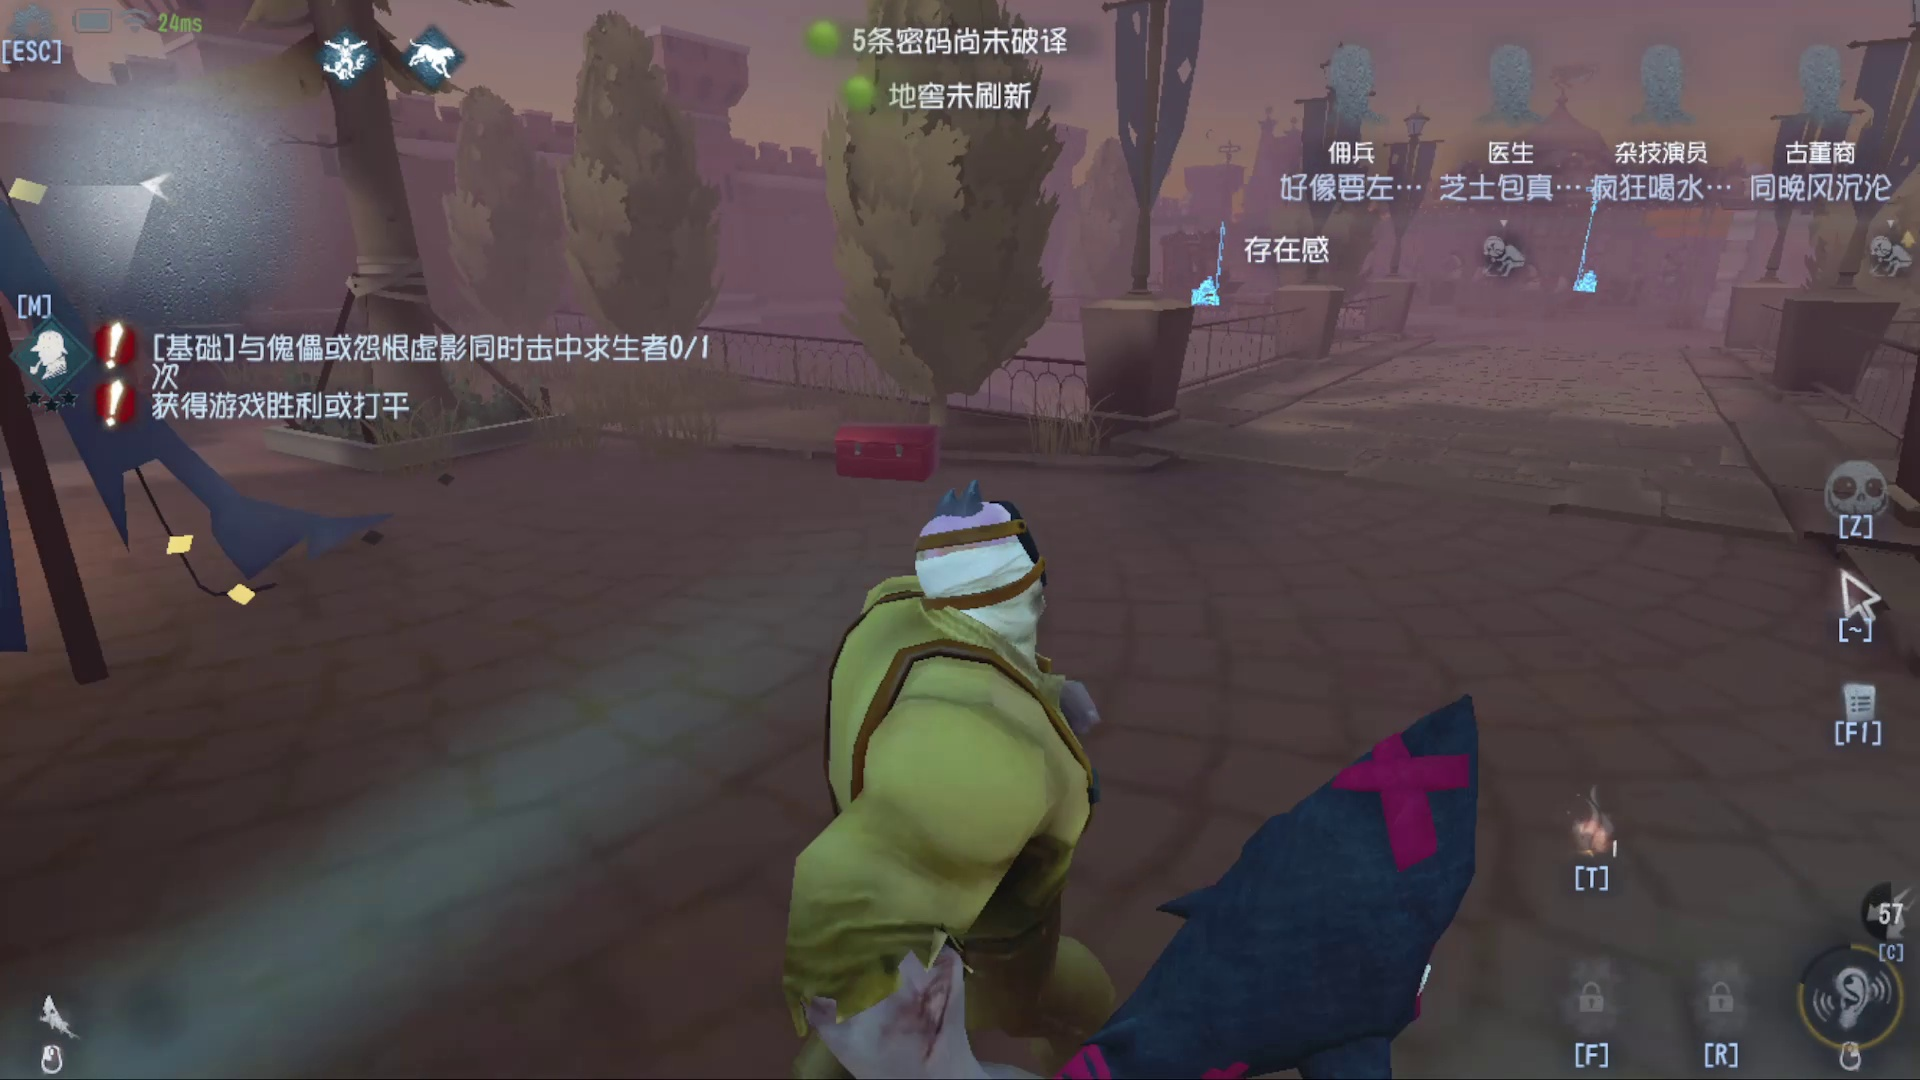密码机: (1201, 124, 1270, 332), (1552, 175, 1623, 311)
